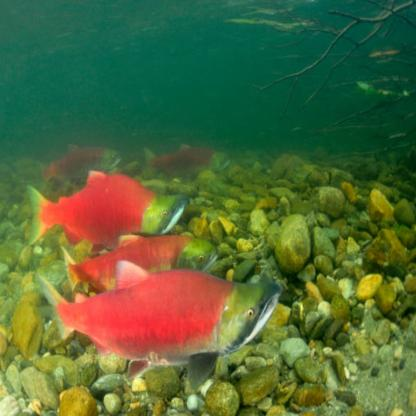sockeye: (42, 283, 270, 362), (32, 156, 195, 234), (70, 238, 221, 286)
sockeye-group: (30, 155, 281, 367)
